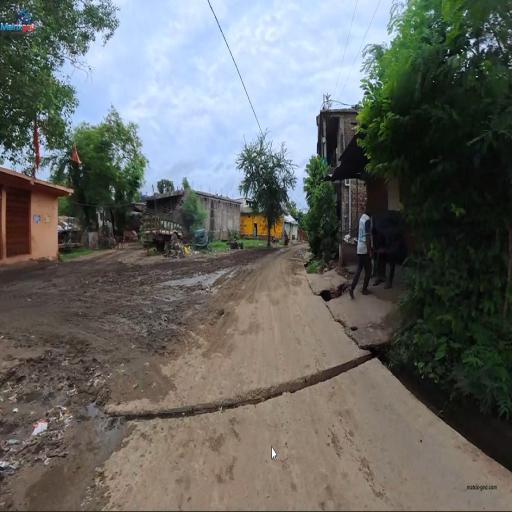longitudinal_crack: (128, 345, 370, 453)
